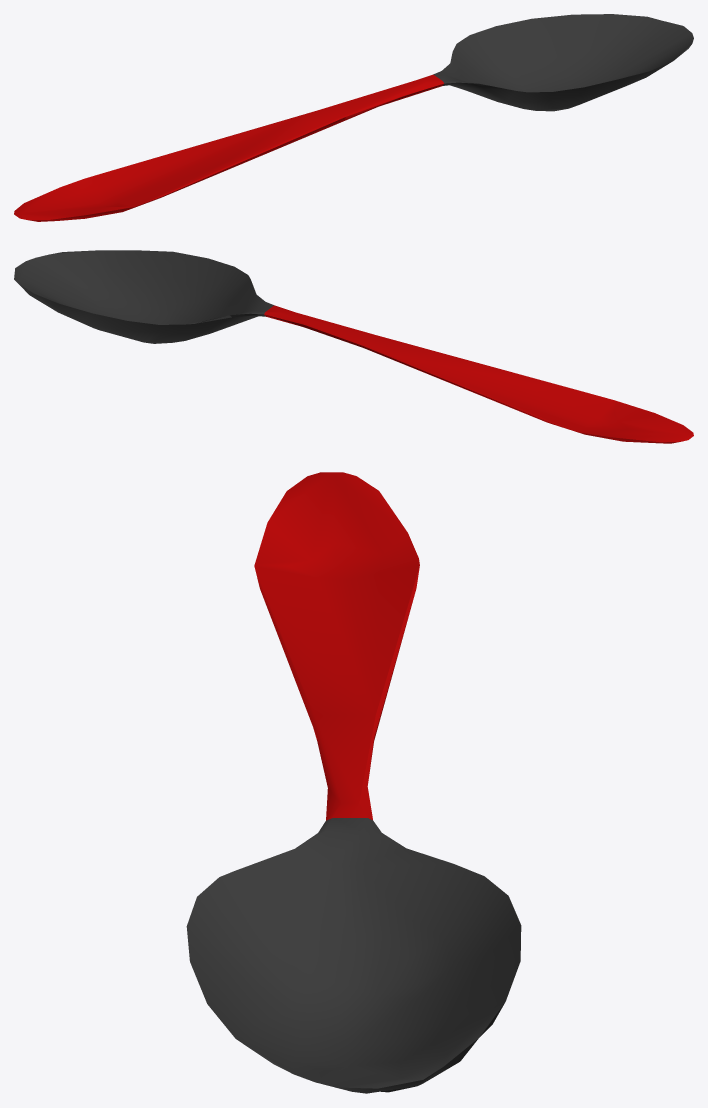
The model's file is Spoon.FBX.
3 views of the same model, one above another, from view 1: azimuth 30°, elevation 25°; view 2: azimuth 150°, elevation 25°; view 3: azimuth 270°, elevation 25° (orthographic). The views are drawn at different scales.
Visible parts, largest first — view 1: spoon; view 2: spoon; view 3: spoon.
Part boxes in pixels (x1=…): spoon: x1=14, y1=14, x2=693, y2=221; spoon: x1=14, y1=250, x2=693, y2=443; spoon: x1=186, y1=472, x2=521, y2=1093.
Size of the model in its own units: 17.2 by 1.37 by 3.75.
Materials: 2 (1 with a texture image).
